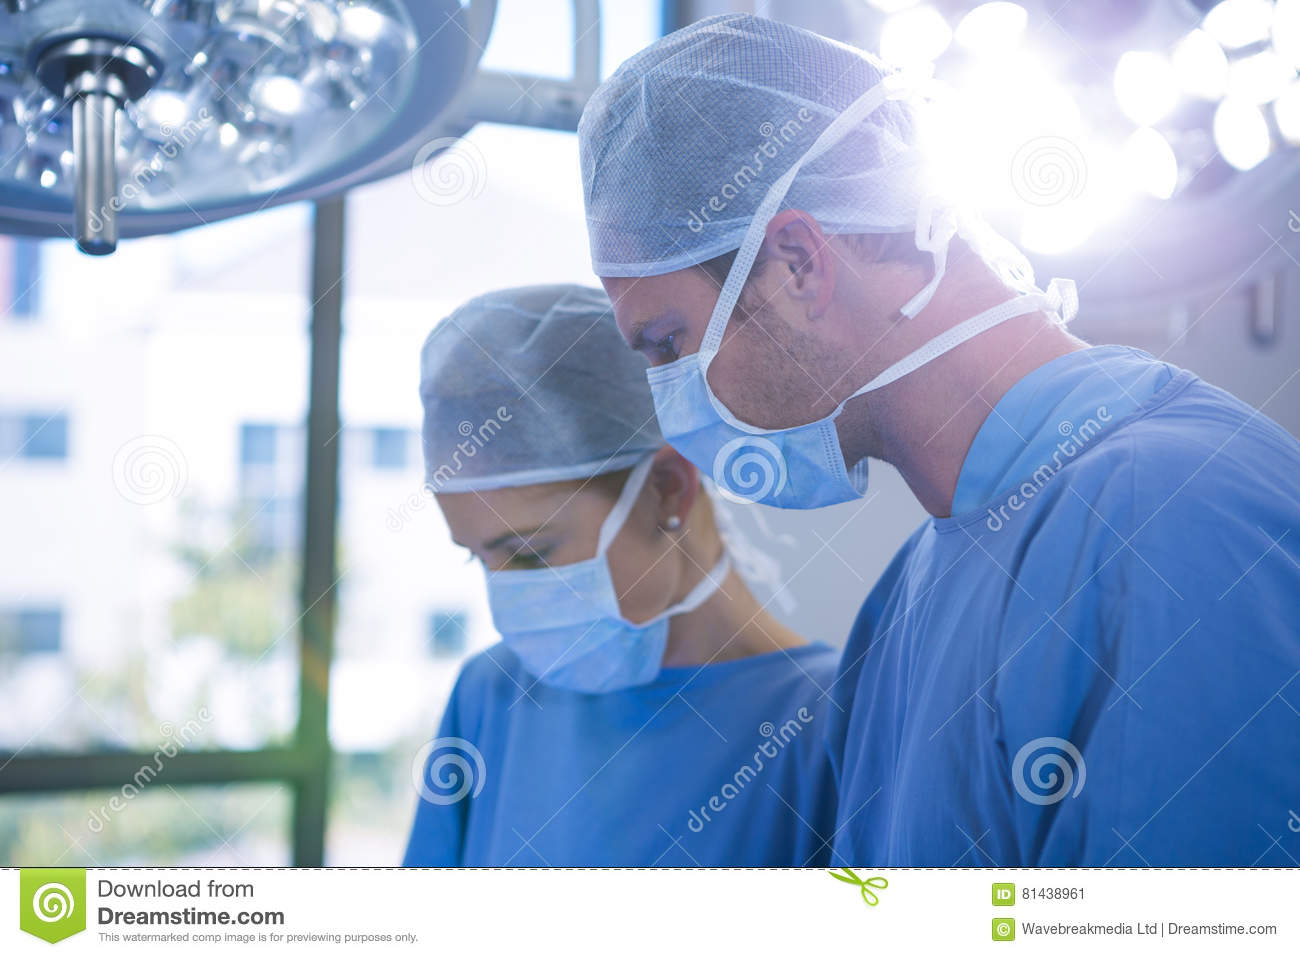mask: (638, 361, 848, 514), (467, 567, 678, 711)
